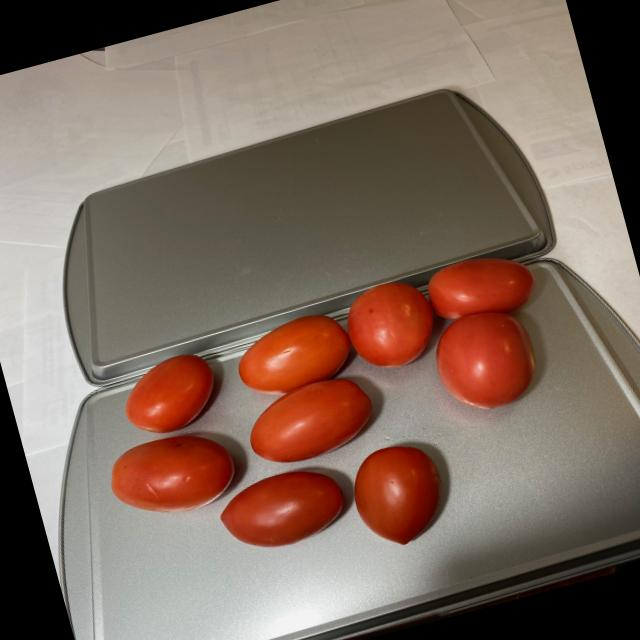tomato: (77, 244, 594, 616)
